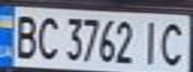2: (115, 16, 139, 65)
3: (60, 14, 84, 62)
6: (96, 16, 121, 64)
7: (78, 15, 100, 63)
B: (9, 10, 42, 61)
C: (157, 18, 190, 69), (33, 11, 60, 61)
I: (136, 17, 163, 66)
